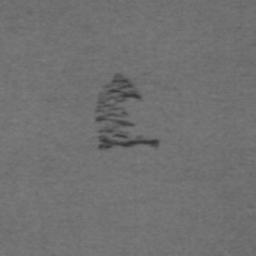Secondary rust skin: (95, 73, 159, 151)
